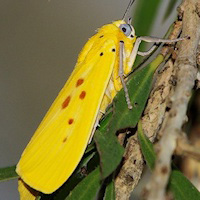Agape chloropyga: (11, 1, 190, 195)
moth: (13, 1, 192, 195)
